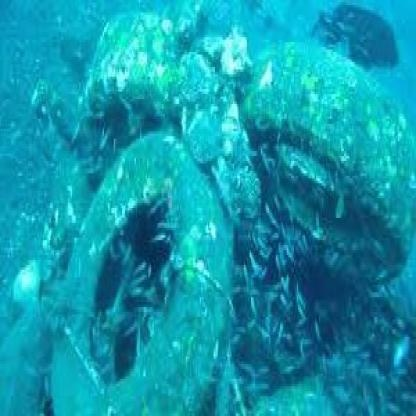tire: (26, 131, 238, 416), (223, 25, 416, 285), (74, 12, 216, 139)
